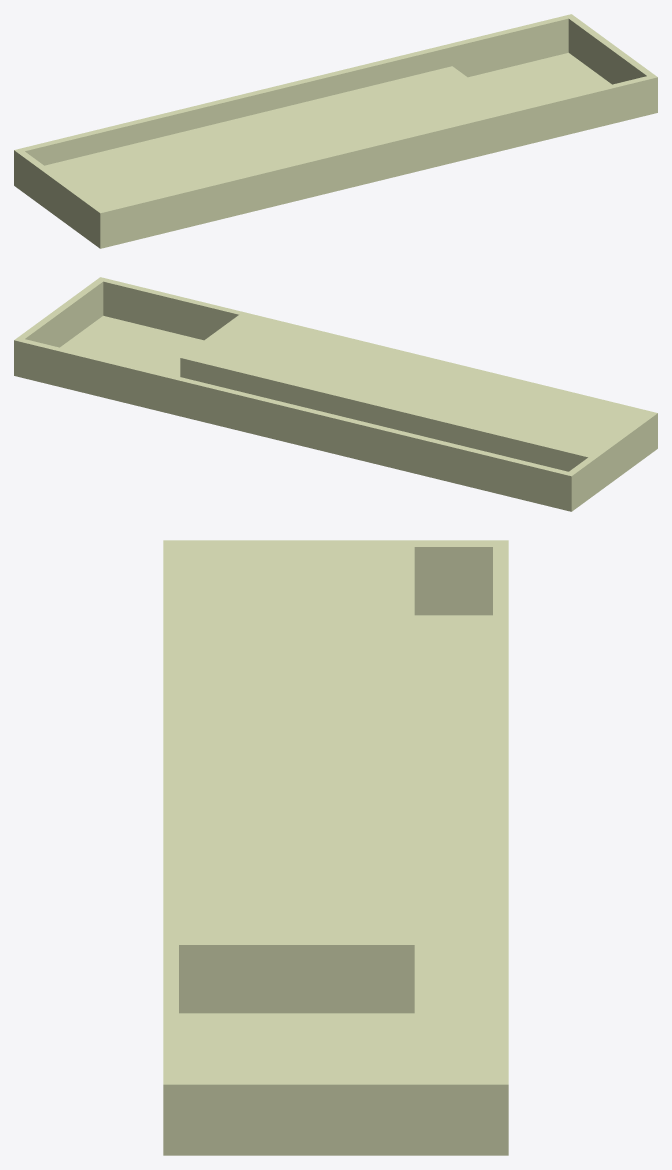
File: medanum_operating_site_bldg5_1f_inter.fbx
3 renders of one model, top to bottom at view 1: azimuth 30°, elevation 25°; view 2: azimuth 150°, elevation 25°; view 3: azimuth 270°, elevation 25°, orthographic. The views are drawn at different scales.
Visible parts, largest first — view 1: Bldg5_1F_Interior; view 2: Bldg5_1F_Interior; view 3: Bldg5_1F_Interior.
Part boxes in pixels (<box>): Bldg5_1F_Interior: <box>14,14,657,248</box>; Bldg5_1F_Interior: <box>14,277,657,511</box>; Bldg5_1F_Interior: <box>163,540,508,1155</box>.
Size of the model in its own units: 4100 by 250 by 1100.
